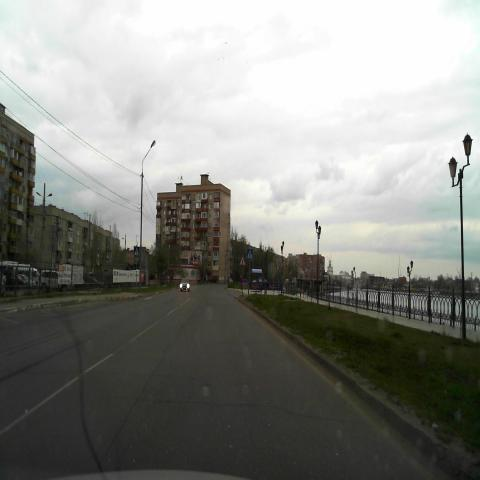1_11: (239, 255, 245, 266)
5_19_1: (246, 248, 254, 260), (134, 246, 139, 258)
